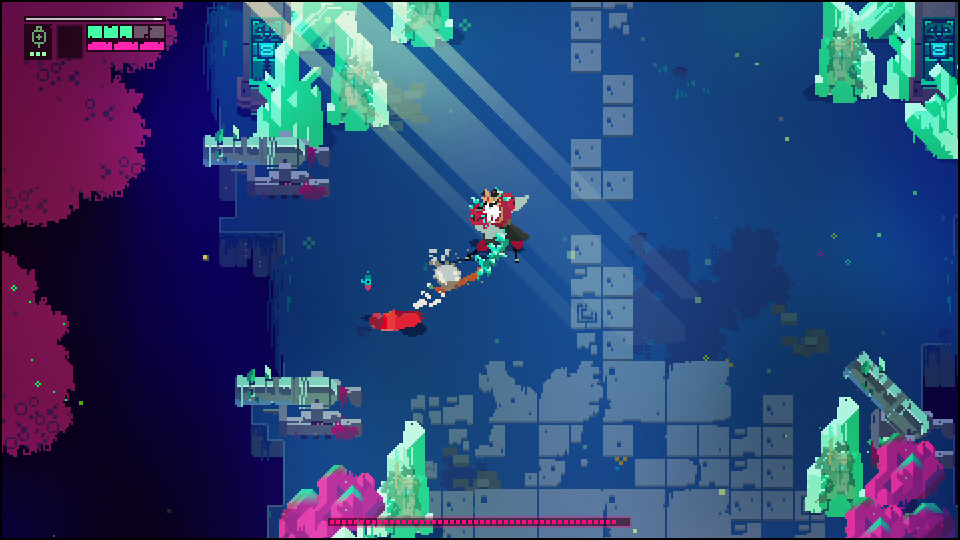hanged_man: (449, 186, 536, 279)
player: (363, 307, 428, 335)
